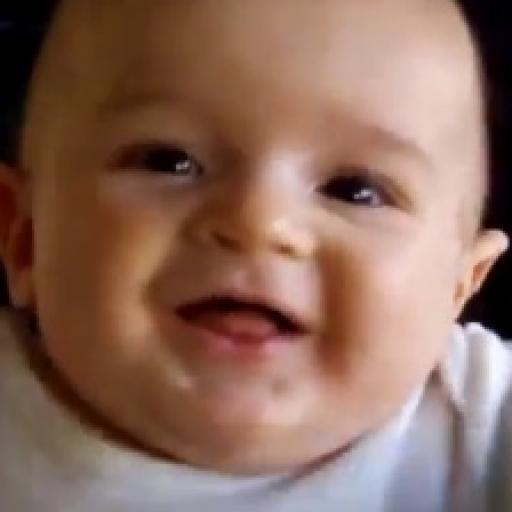Autism: (60, 1, 485, 501)
